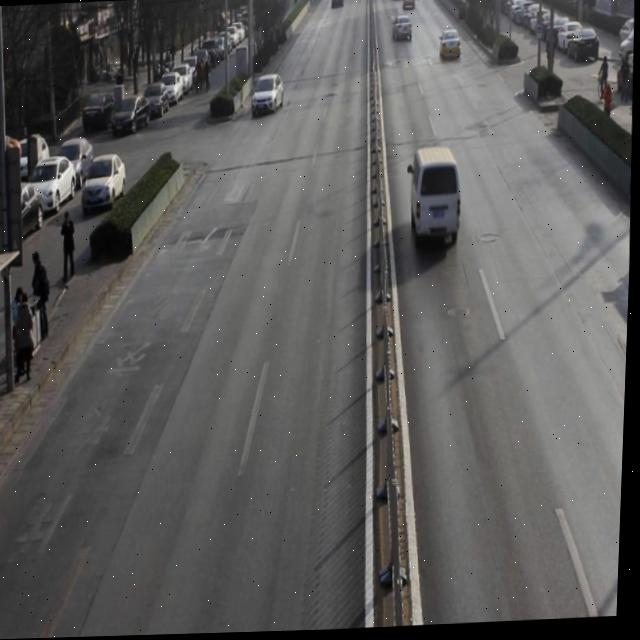car: (252, 73, 286, 116), (440, 28, 465, 67), (390, 15, 415, 46)
truck: (406, 150, 466, 256)
